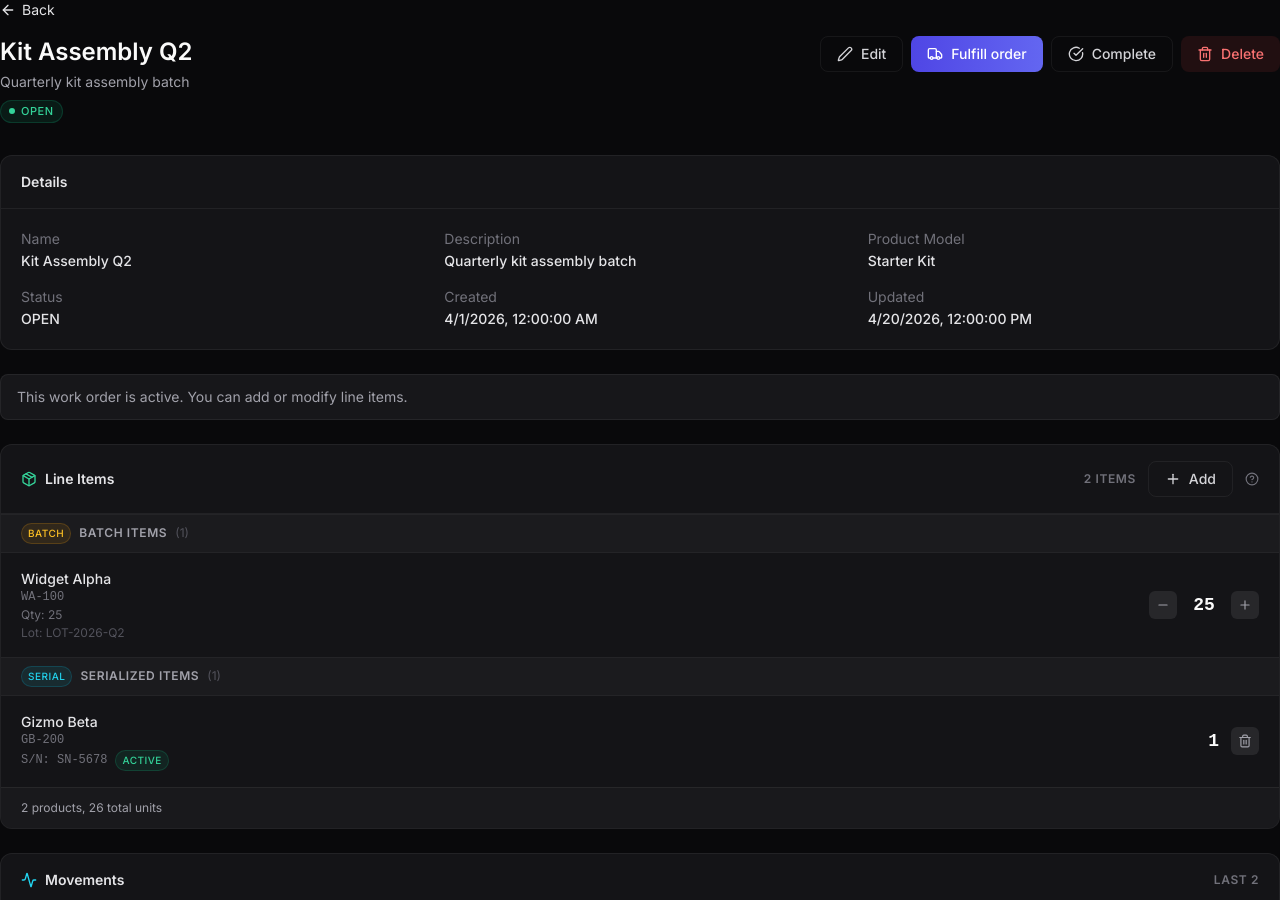
Test: WorkOrderShow › shows confirm dialog on Delete click
Click the button "Delete": (1231, 54) [1181,36,1279,72]
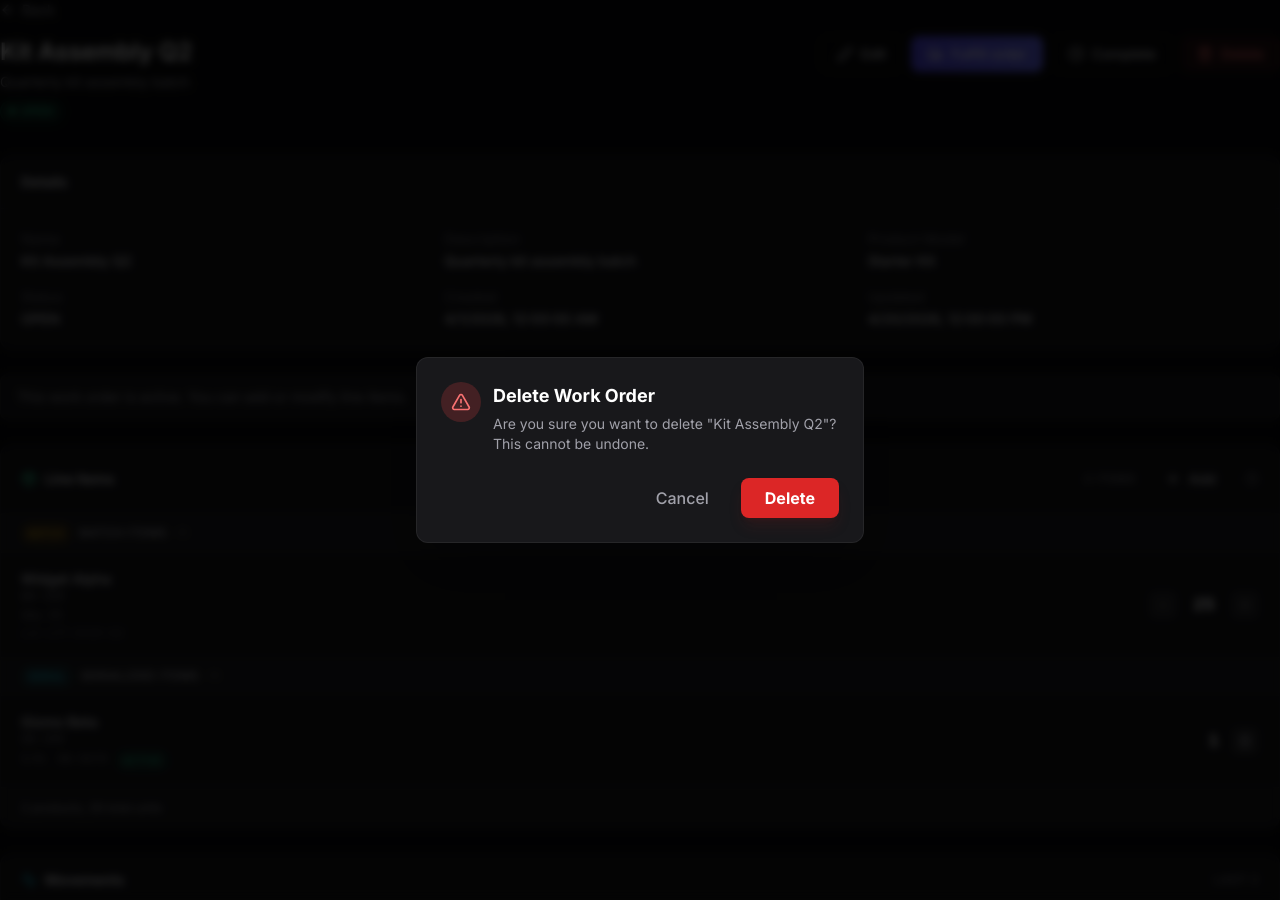
Now the heading "Delete Work Order" is shown, box [493,385,655,406]
Now the element with test id "confirm-dialog" is shown, box [416,357,864,543]
